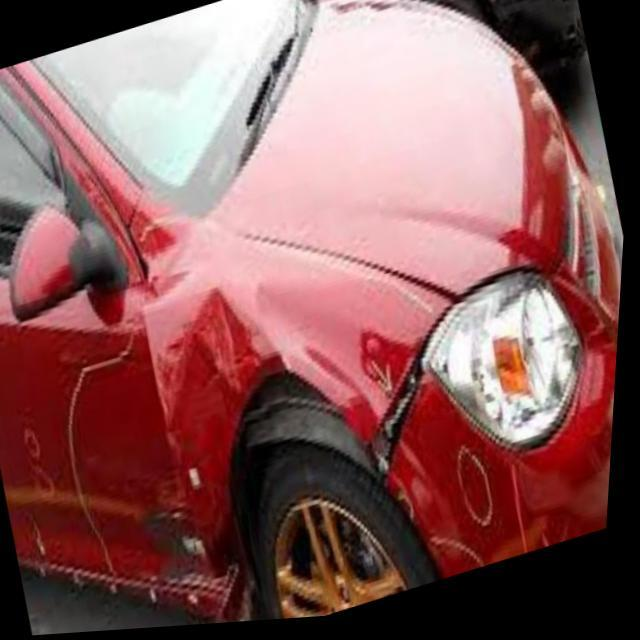crack: (71, 165, 183, 293)
dent: (133, 278, 565, 627)
